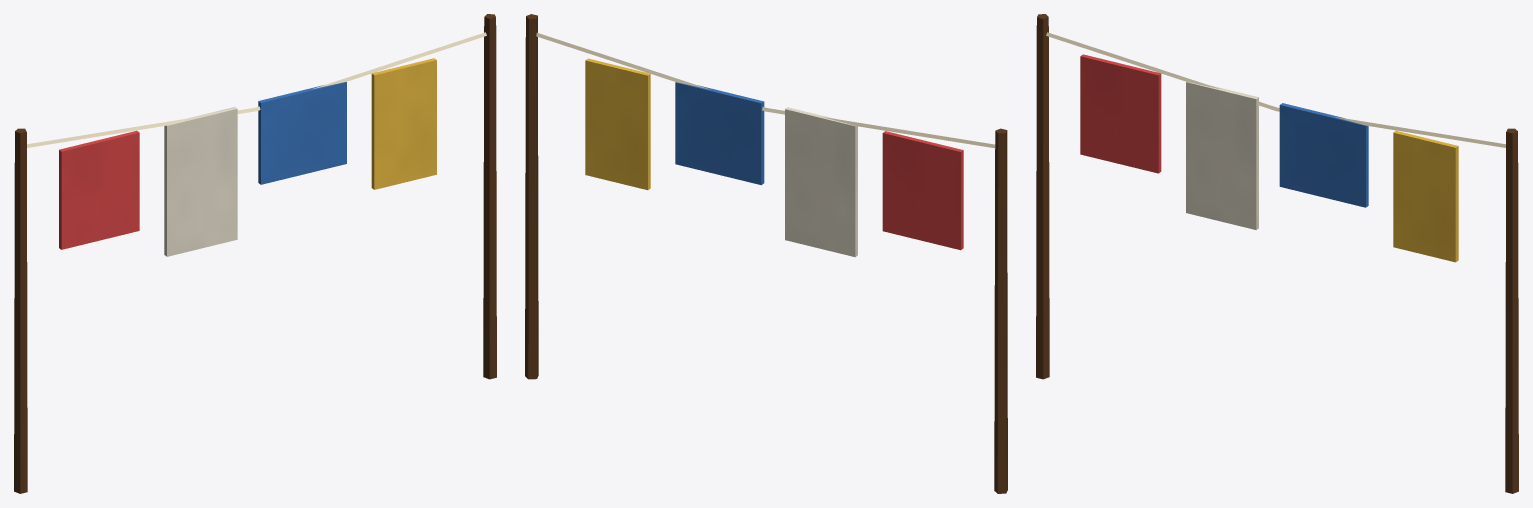
File: env_baku_clothesline.glb
The picture shows the model from 3 angles, left to right: view 1: azimuth 30°, elevation 25°; view 2: azimuth 150°, elevation 25°; view 3: azimuth 330°, elevation 25°; orthographic projection.
Visible parts, largest first — view 1: env_baku_clothesline; view 2: env_baku_clothesline; view 3: env_baku_clothesline.
Boxes of the visible parts, bbox=[...] form: env_baku_clothesline: bbox=[14, 14, 496, 493]; env_baku_clothesline: bbox=[525, 14, 1007, 493]; env_baku_clothesline: bbox=[1036, 14, 1518, 493].
Bounding box in the file's own units: 3.08 × 2.2 × 0.0724.
Materials: 1 (1 with a texture image).
